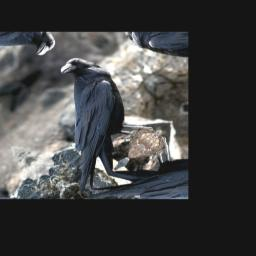Crow: (0, 50, 174, 197)
